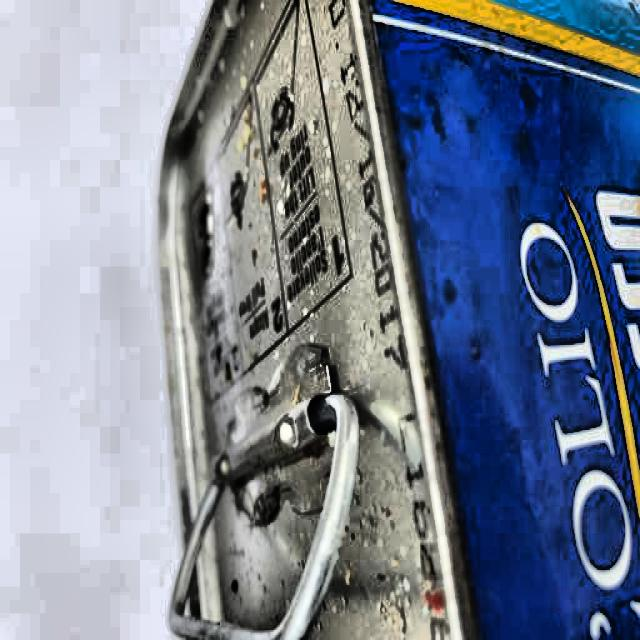metal: (150, 37, 609, 640)
